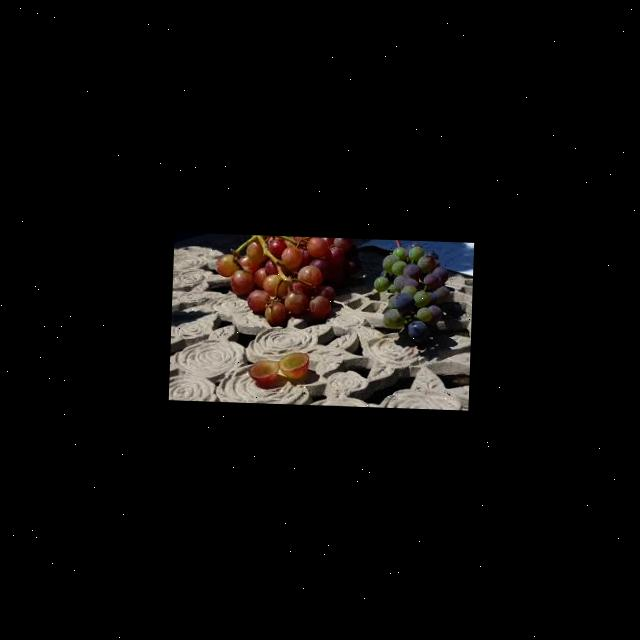grape: (212, 232, 359, 328), (369, 240, 456, 342)
